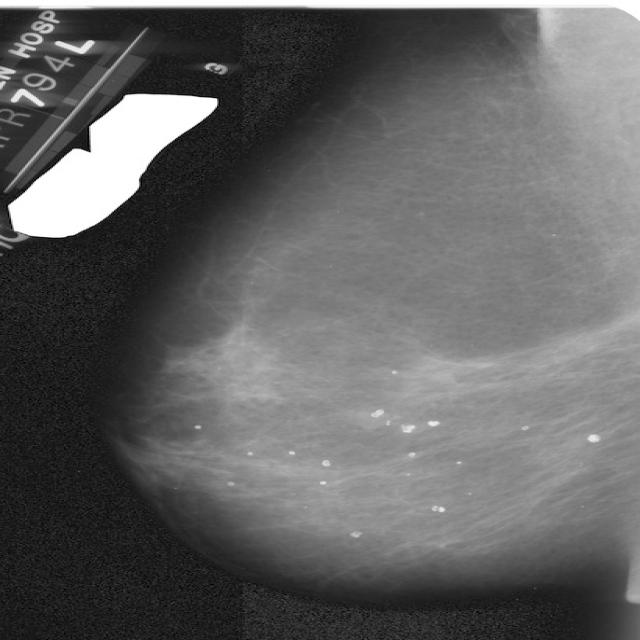tumour: (346, 409, 388, 428)
